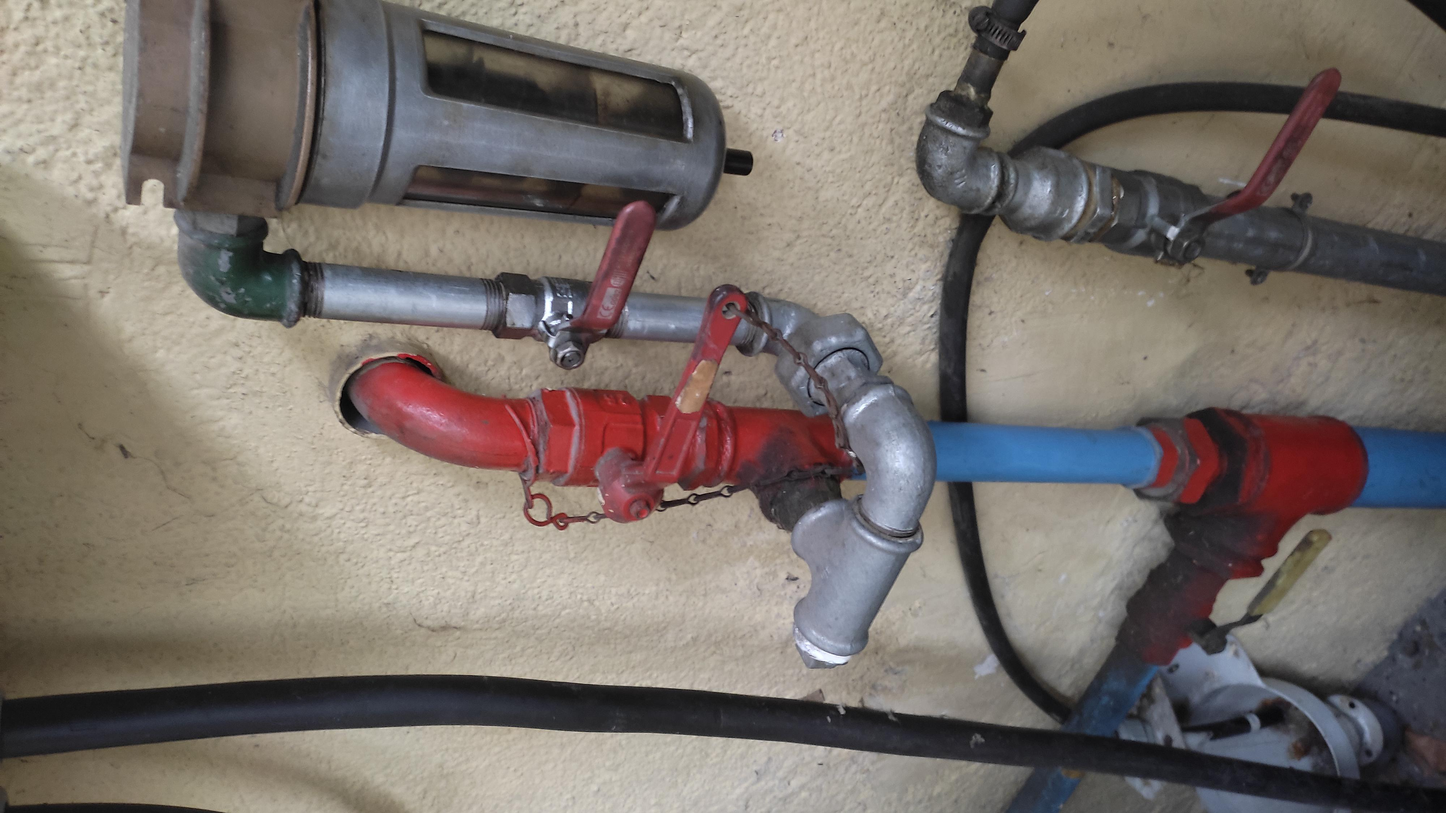closed valve: (1073, 65, 1347, 281), (543, 282, 753, 529), (492, 197, 662, 372)
opened valve: (1114, 526, 1336, 672)
